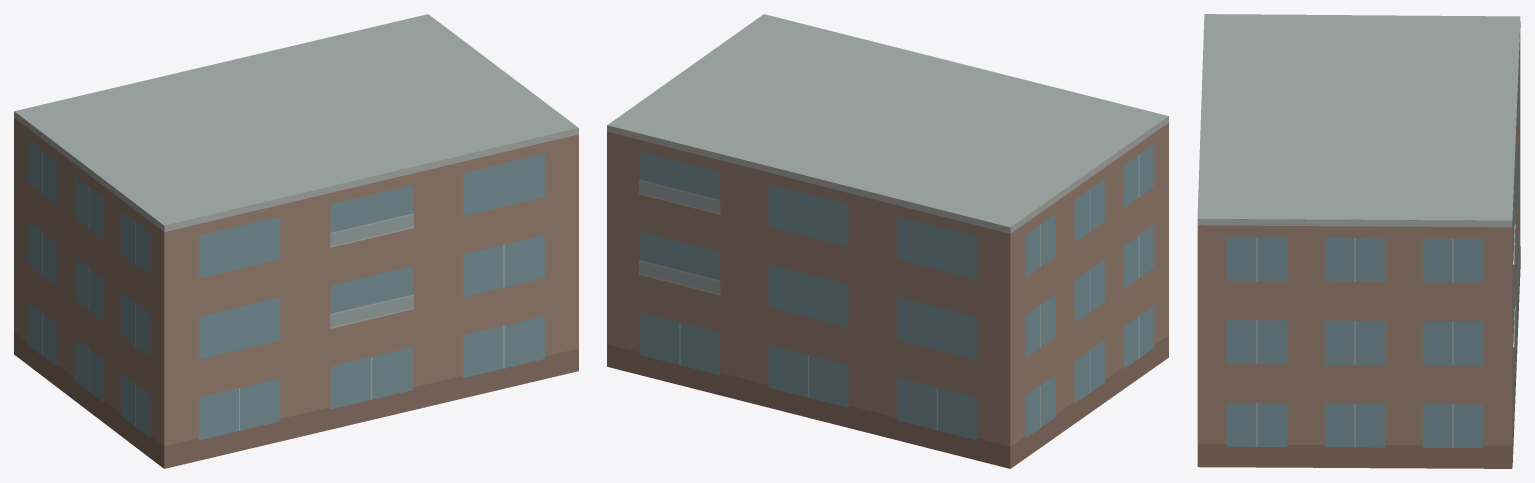
Rendered from survey-upis-32510031.glb.
The picture shows the model from 3 angles, left to right: view 1: azimuth 30°, elevation 25°; view 2: azimuth 150°, elevation 25°; view 3: azimuth 270°, elevation 25°; orthographic projection. The views are drawn at different scales.
Parts seen in each view (by area): view 1: survey-upis-32510031.tmp; view 2: survey-upis-32510031.tmp; view 3: survey-upis-32510031.tmp.
Part boxes in pixels (x1,y1,x2,y2): survey-upis-32510031.tmp: (14,14,578,468); survey-upis-32510031.tmp: (607,14,1168,468); survey-upis-32510031.tmp: (1197,14,1520,468).
Size of the model in its own units: 16.35 by 9.15 by 10.8.
